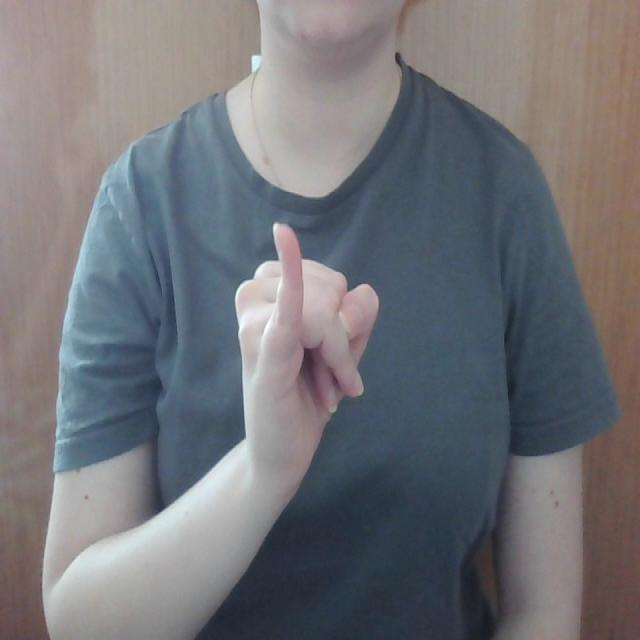kotu: (229, 215, 384, 438)
